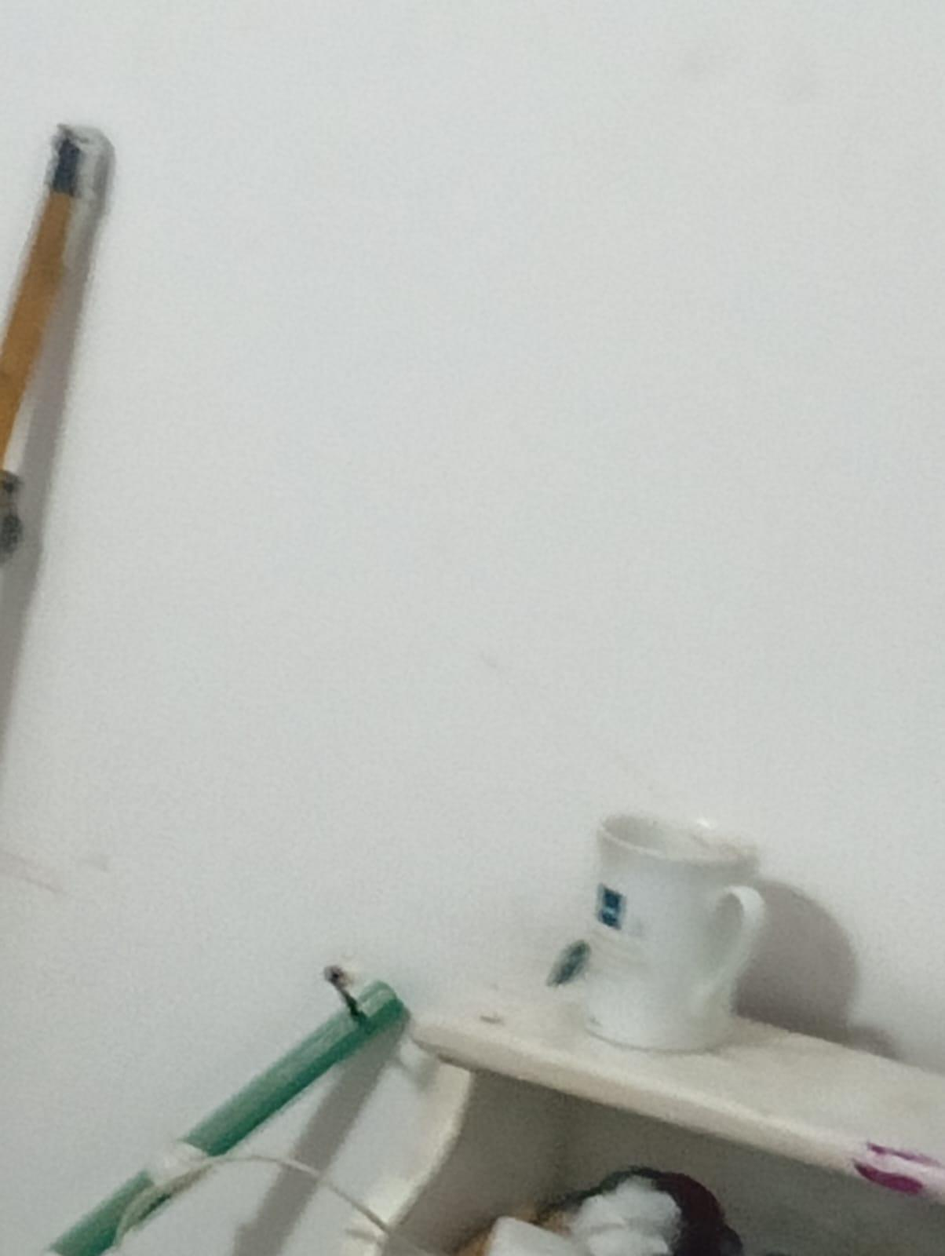cup: (585, 816, 766, 1051), (599, 802, 760, 880)
